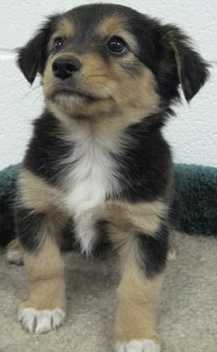Dog: (7, 4, 207, 327)
